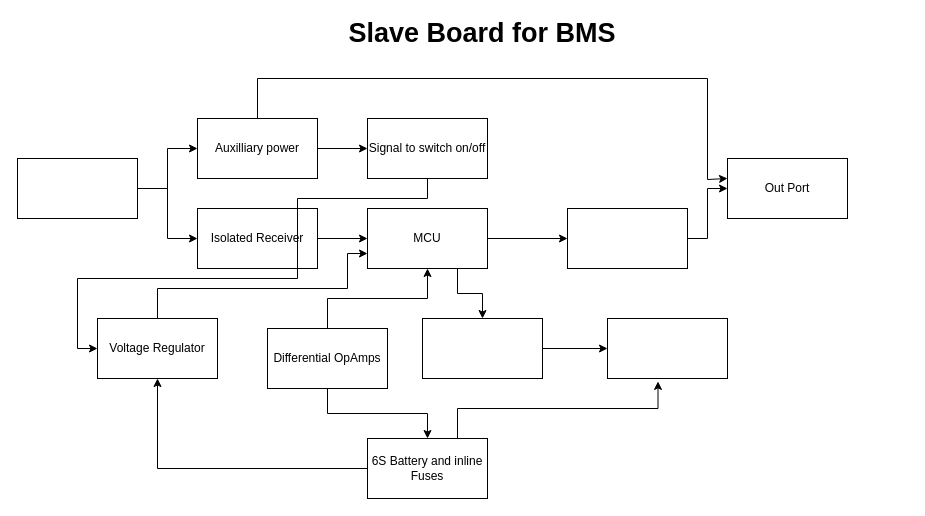
Image size: 925x516. Some labels were removed from this diagram. The shapes that lost their labels are listed below. From the top down, each one's centre as x and y in pixels, then its label:
At point 77,188: "In Port".
At point 627,238: "Isolated ransmitter".
At point 482,348: "Open Loop Opamps".
At point 667,348: "Balance Resistors and Transistors".
